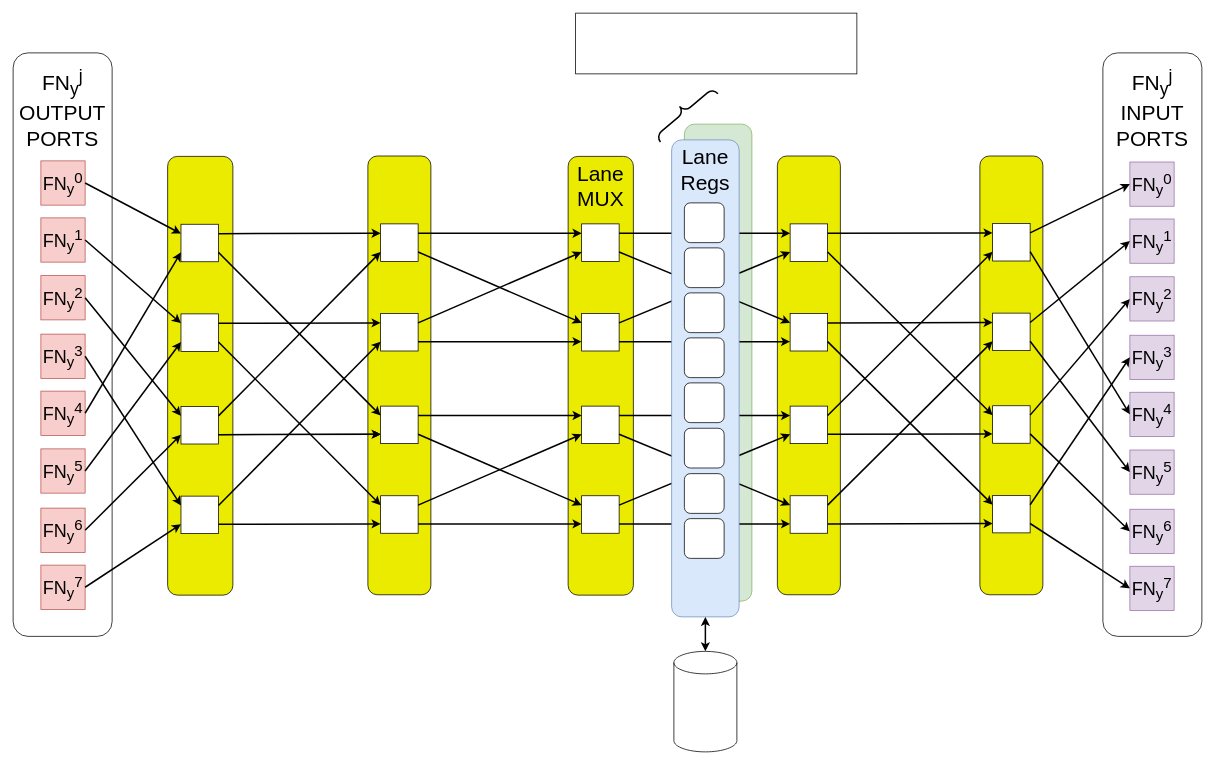
The diagram is 1215 pixels wide and 765 high, and some of its shapes have lost their labels. The centre of each missing label's shape, as x and y in pixels:
"Radix-2 Channels { O0 = B, O1 = G }" goes at pixel 716 43.
"TCM Ports" goes at pixel 705 701.
